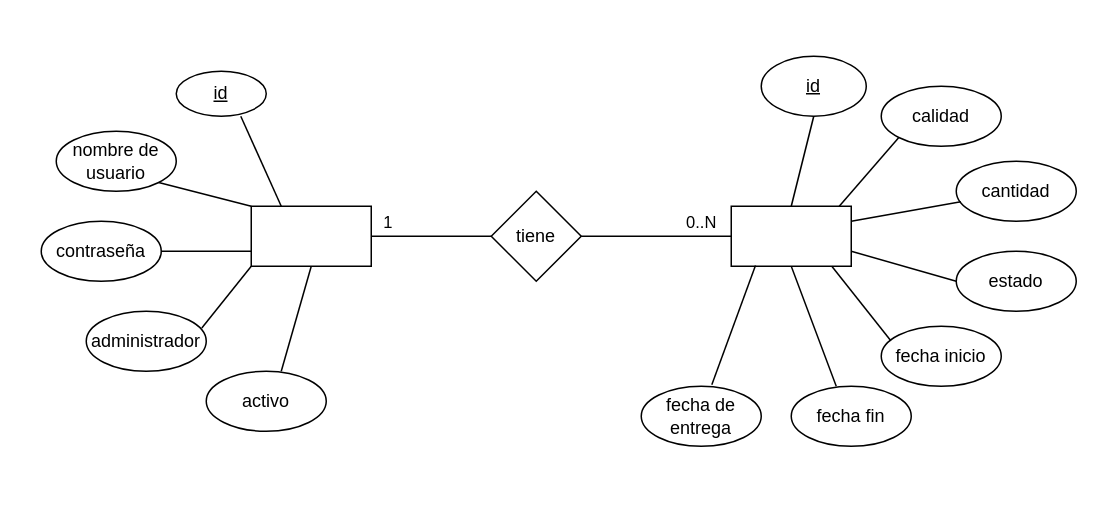
This 1116x516 diagram has some shape labels left out. The shapes that lost their labels are listed below. From the top down, each one's centre as x and y in pixels, then its label:
point 310,235: Usuario
point 790,235: Trabajo
